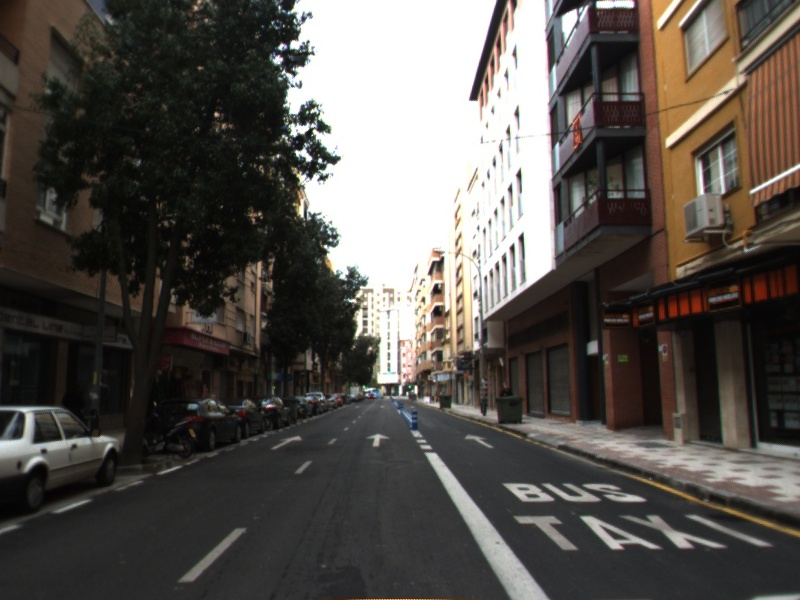STRAIGHT: (268, 433, 304, 452), (462, 431, 496, 450), (364, 431, 392, 449)
